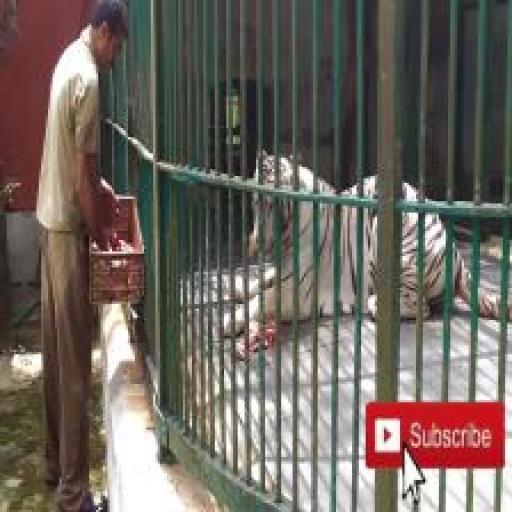Tiger: (219, 148, 511, 340)
